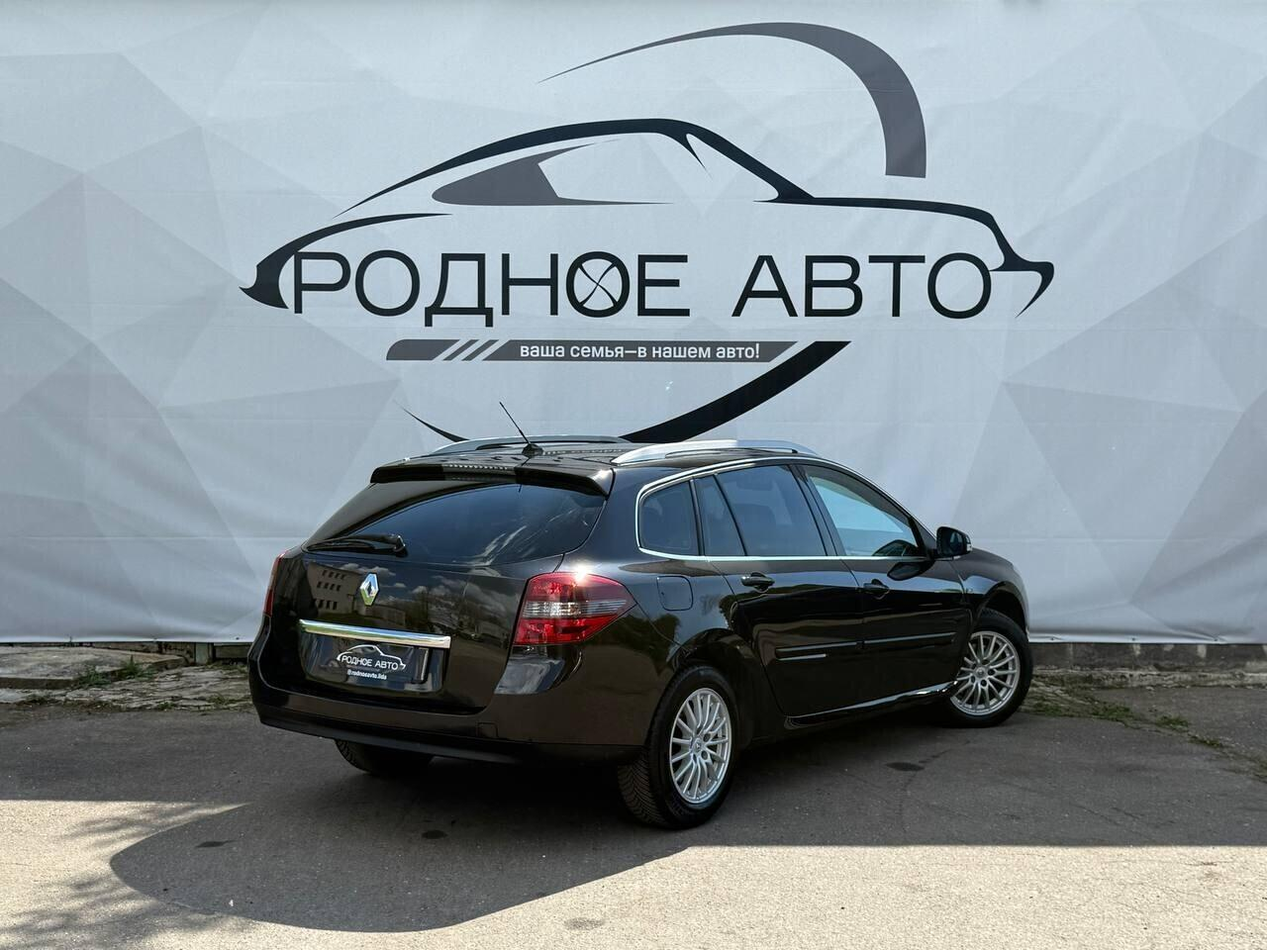Laguna_2010-2015: (245, 428, 1038, 816)
